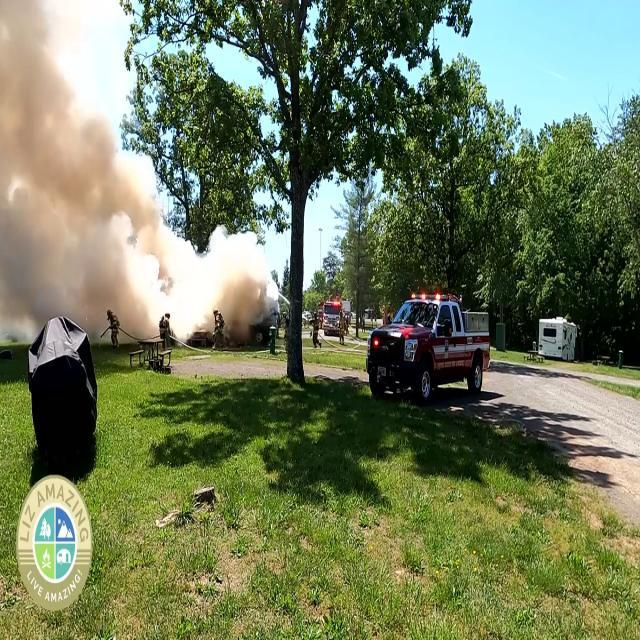Smoke: (0, 0, 156, 341), (162, 208, 282, 342)
